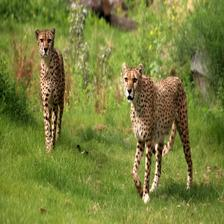Cheetah: (123, 63, 197, 205), (33, 24, 68, 162)
